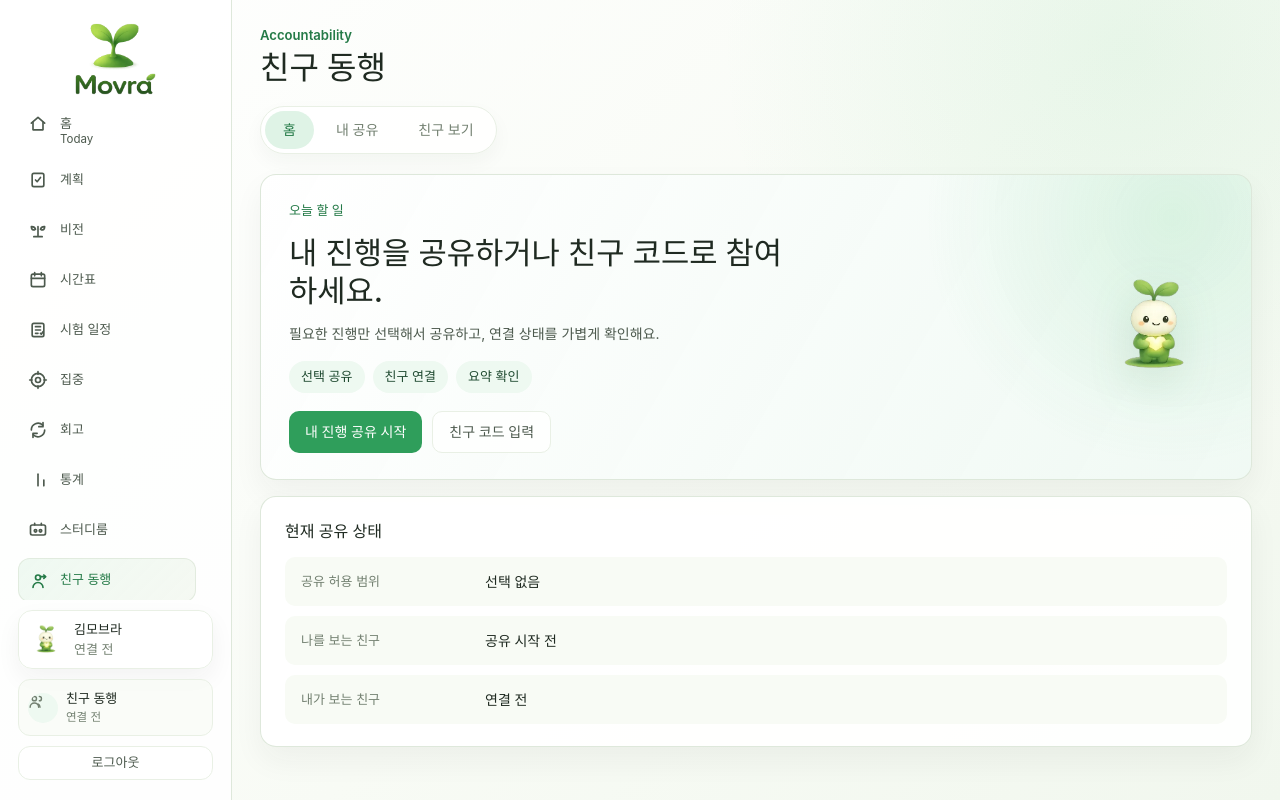
AccountabilityPage › routes overview CTA to sharing and opens the invite-code modal
Expected: the heading "친구 동행" is shown, [260,50,386,86]
Click the link "내 진행 공유 시작" at (356, 432), box [289,411,422,453]
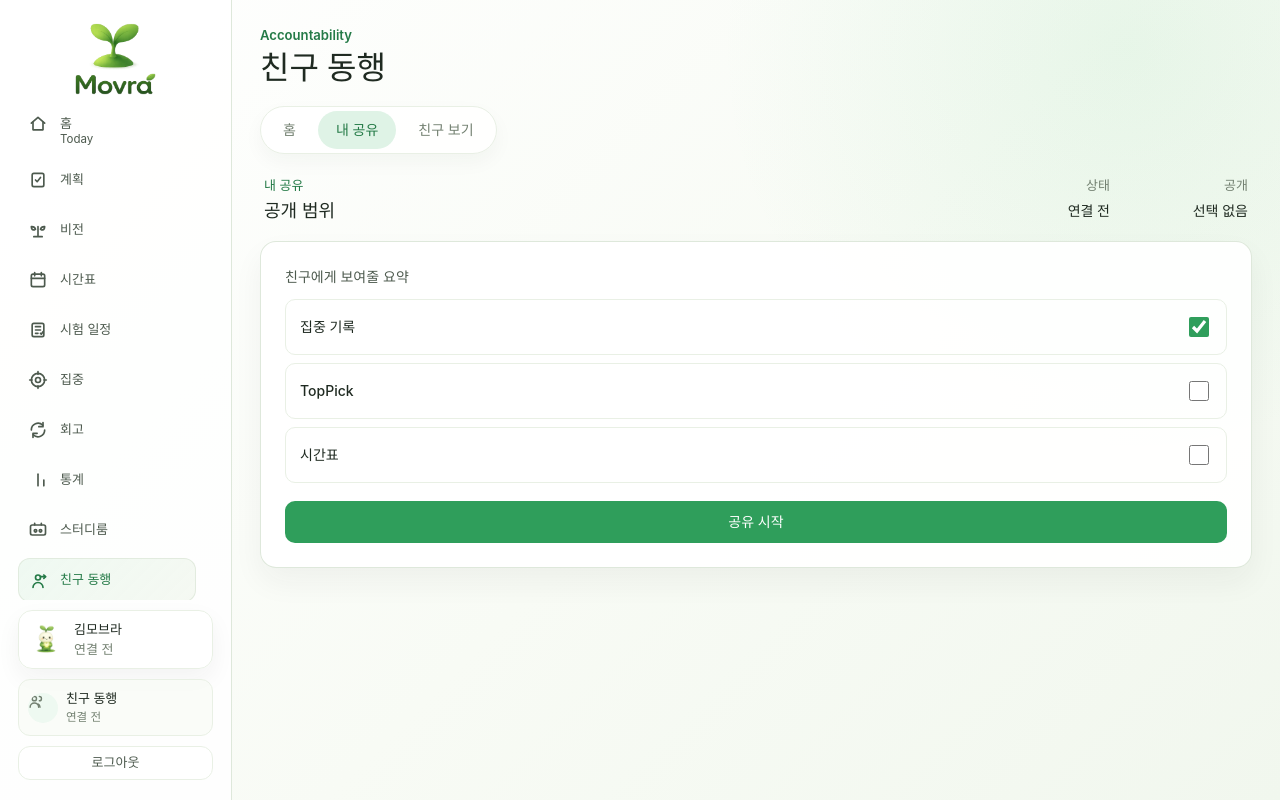
Now the heading "공개 범위" is shown, box [264,200,335,223]
Click the link "홈" at (289, 130), box [283,121,296,138]
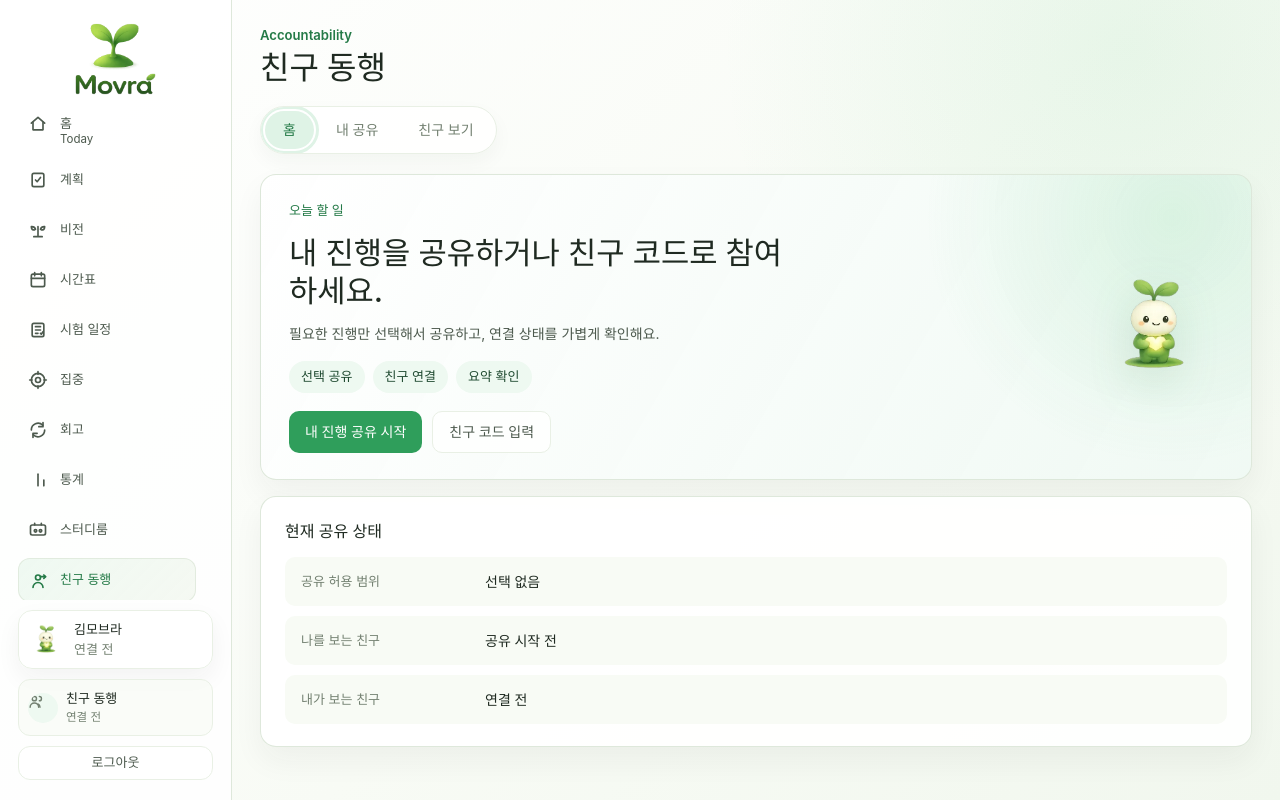
Click the button "친구 코드 입력" at (492, 432), box [432,411,551,453]
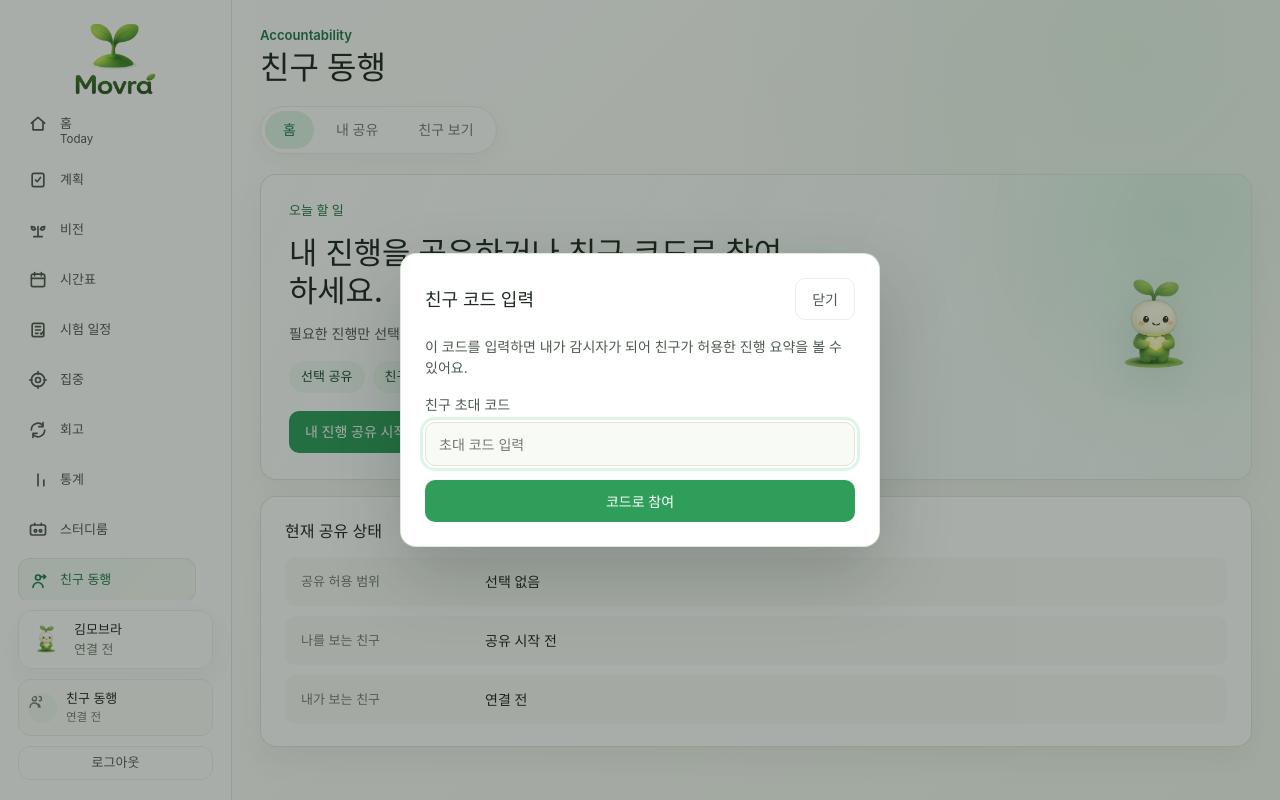
Now the dialog "친구 코드 입력" is shown, box [400,253,880,547]
Now the text "이 코드를 입력하면 내가 감시자가 되어 친구가 허용한 진행 요약을 볼 수 있어요." is shown, box [425,336,855,378]
